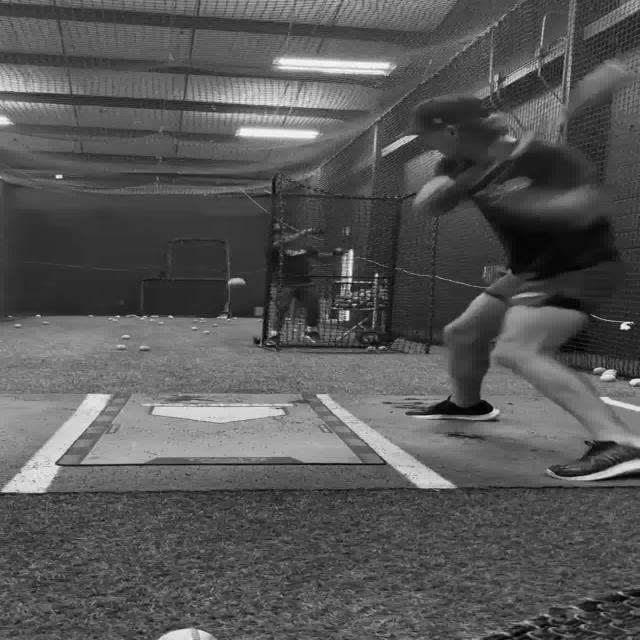base: (141, 403, 295, 421)
baseball: (158, 628, 218, 640), (227, 278, 246, 286), (592, 366, 606, 374), (603, 369, 617, 376), (598, 375, 614, 381), (628, 378, 640, 386), (115, 344, 126, 350), (138, 346, 150, 350), (120, 335, 130, 339), (13, 323, 21, 328), (377, 346, 387, 350), (366, 346, 374, 351), (41, 320, 50, 324), (202, 330, 210, 334), (191, 326, 197, 331), (34, 314, 40, 318), (87, 315, 93, 318), (156, 322, 164, 324), (211, 324, 218, 326)
bat: (488, 58, 640, 178)
shoe: (545, 439, 639, 481), (404, 395, 500, 421)
